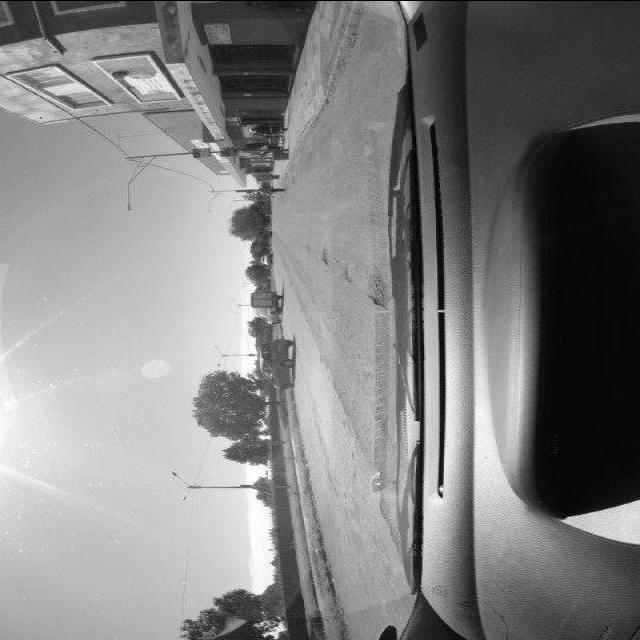lubang: (358, 268, 393, 312), (315, 245, 341, 268), (341, 264, 359, 284)
